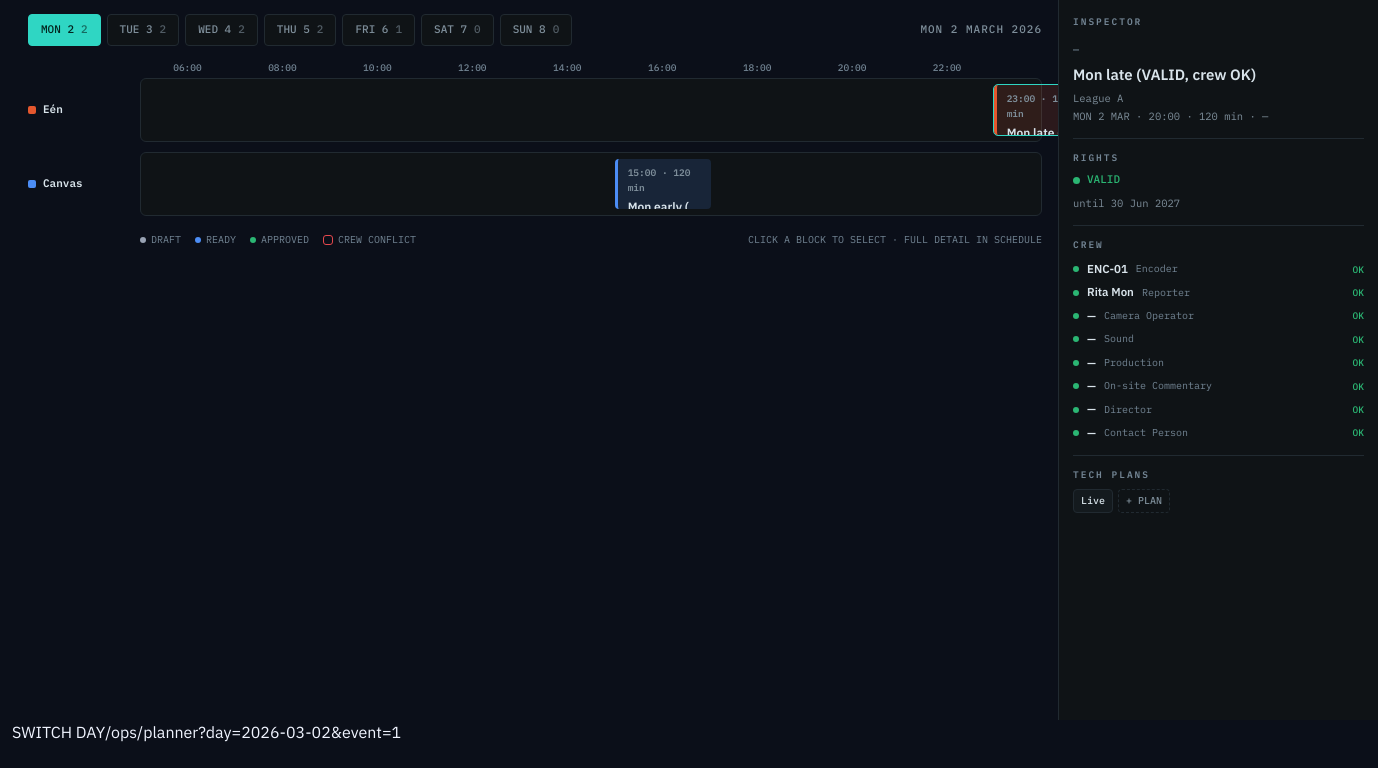
day pills (B-2-T1 — README §2 pill row bound to useOpsDay) › pill click preserves the ?event= selection (ops-selection setters never touch unrelated params)
Click the button "THU 5 2" at (300, 30), box [264,14,336,46]
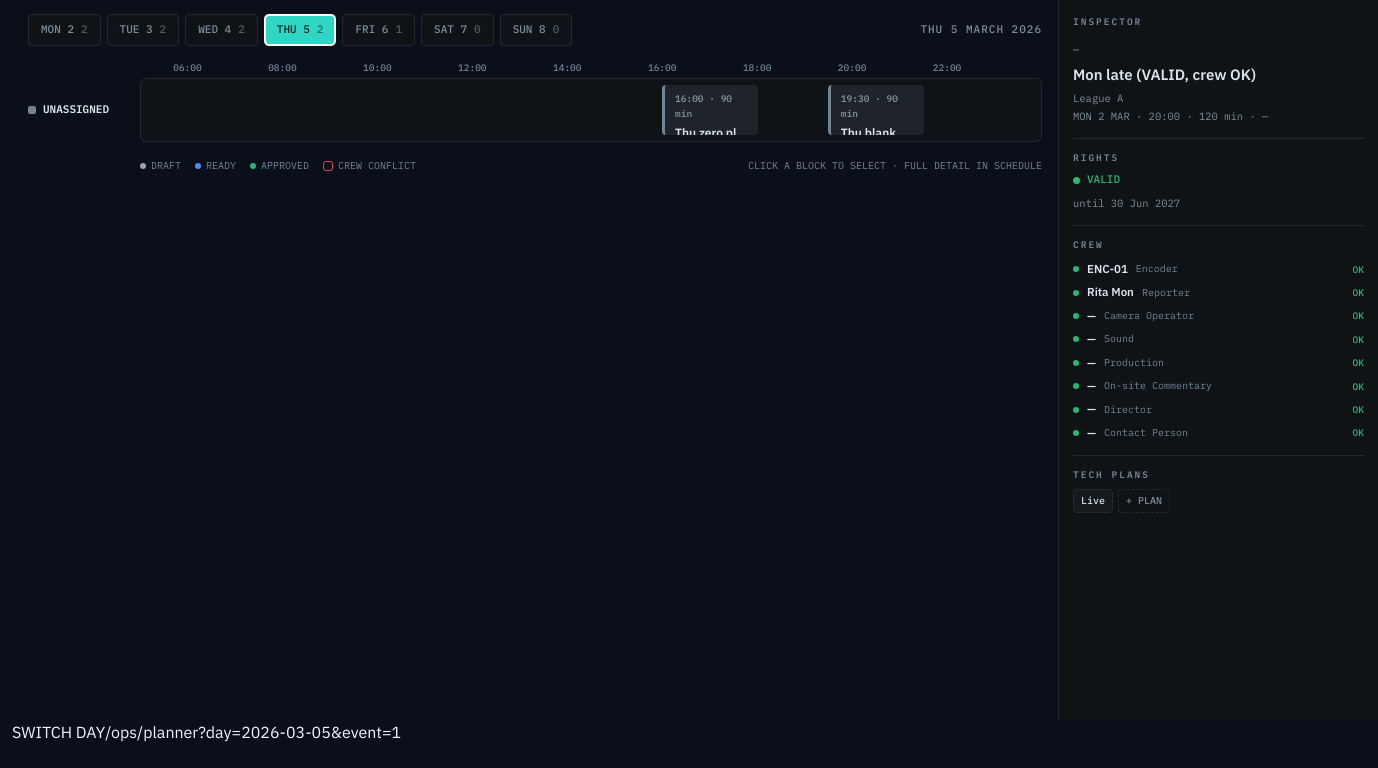
Expected: the text with test id "ops-inspector-title" shows "Mon late", [1073,65,1256,84]
Result: the text with test id "location" reads "/ops/planner?day=2026-03-05&event=1" at [105,722,401,742]
